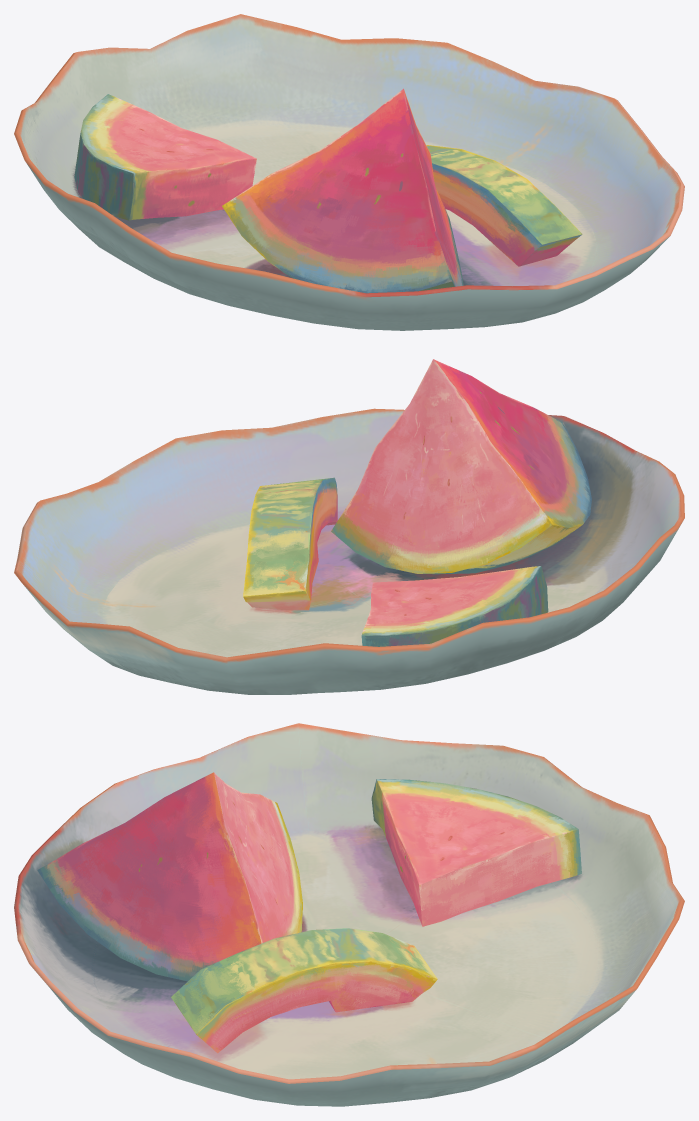
File: painterly_brushwork_study_with_pchans_painting.glb
3 views of the same model, one above another, from view 1: azimuth 30°, elevation 25°; view 2: azimuth 150°, elevation 25°; view 3: azimuth 270°, elevation 25° (orthographic).
Parts seen in each view (by area): view 1: Circle_5, Sphere_2, Sphere.001_3, Sphere.002_4; view 2: Circle_5, Sphere_2, Sphere.001_3, Sphere.002_4; view 3: Circle_5, Sphere_2, Sphere.001_3, Sphere.002_4.
Part boxes in pixels (<box>): Circle_5: <box>14,14,684,330</box>; Sphere_2: <box>222,88,463,293</box>; Sphere.001_3: <box>74,94,256,220</box>; Sphere.002_4: <box>426,145,582,266</box>; Circle_5: <box>14,408,684,694</box>; Sphere_2: <box>331,359,591,574</box>; Sphere.001_3: <box>361,566,548,646</box>; Sphere.002_4: <box>243,477,337,610</box>; Circle_5: <box>14,723,684,1106</box>; Sphere_2: <box>37,772,302,981</box>; Sphere.001_3: <box>371,779,581,926</box>; Sphere.002_4: <box>171,928,437,1053</box>.
Size of the model in its own units: 0.0982 by 0.0356 by 0.0998.
Materials: 1 (1 with a texture image).
